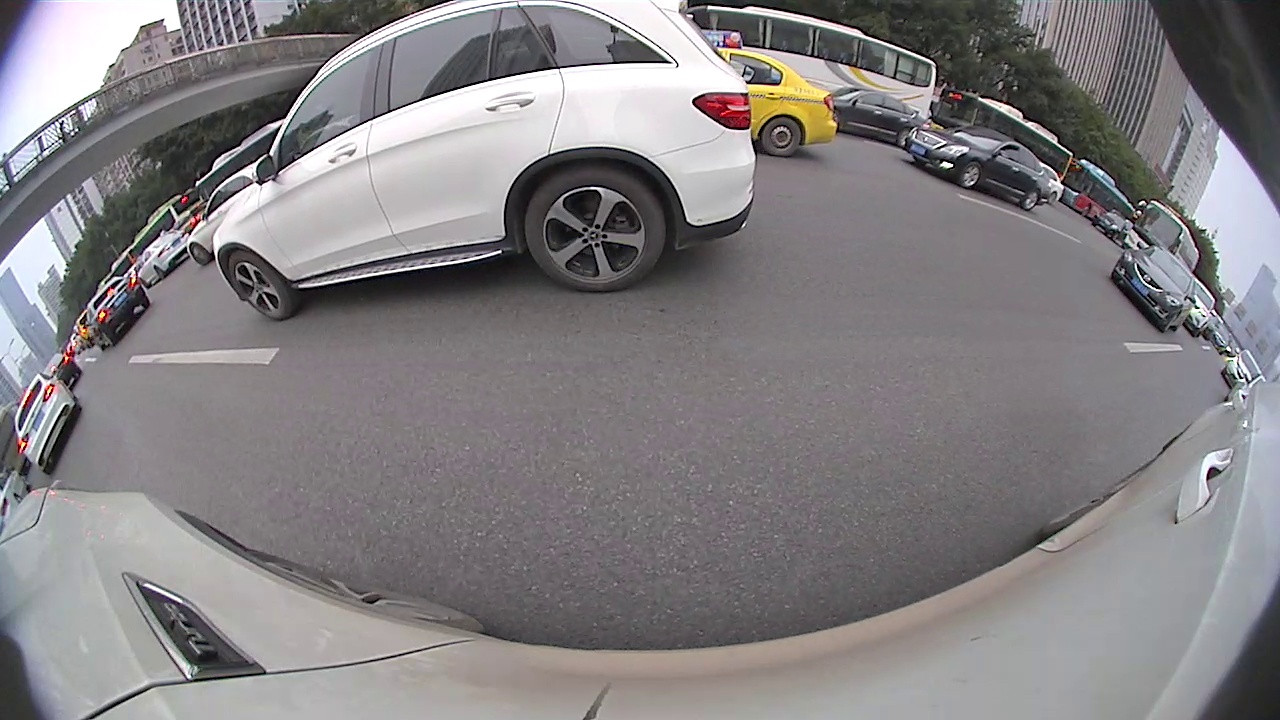bus: (683, 4, 940, 125), (936, 87, 1075, 186), (1122, 197, 1200, 271), (1061, 156, 1133, 223)
car: (214, 1, 757, 322), (711, 45, 838, 159), (904, 121, 1055, 212), (186, 168, 298, 266), (1108, 239, 1197, 334), (11, 370, 84, 474), (823, 82, 928, 149), (82, 276, 151, 350), (125, 230, 196, 288), (1184, 273, 1216, 333)
front: (227, 250, 287, 319), (961, 163, 980, 189)
rear: (527, 169, 664, 293), (762, 116, 799, 156), (1024, 188, 1040, 211)
